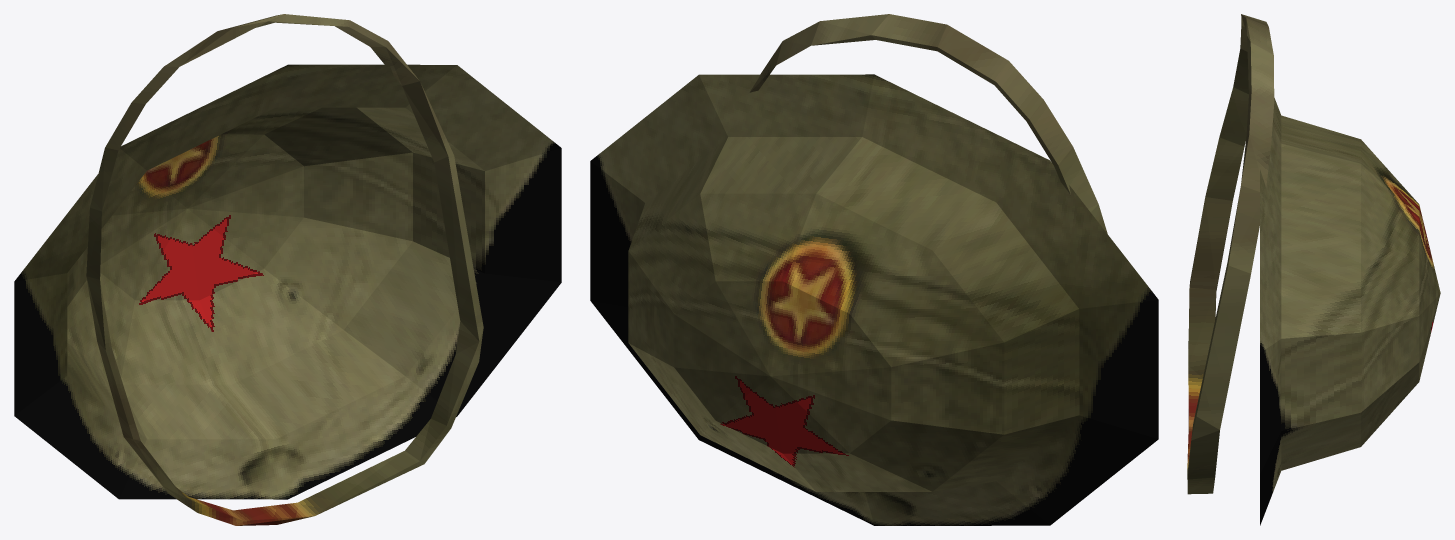
File: pith_star.glb
The picture shows the model from 3 angles, left to right: view 1: azimuth 30°, elevation 25°; view 2: azimuth 150°, elevation 25°; view 3: azimuth 270°, elevation 25°; orthographic projection. The views are drawn at different scales.
Parts seen in each view (by area): view 1: pith_star, pith_star_band; view 2: pith_star, pith_star_band; view 3: pith_star, pith_star_band.
Part boxes in pixels (box(x1,y1,x2,y2)): pith_star: box(14, 64, 561, 499); pith_star_band: box(86, 14, 483, 525); pith_star: box(590, 74, 1158, 525); pith_star_band: box(749, 14, 1107, 233); pith_star: box(1260, 98, 1440, 525); pith_star_band: box(1187, 14, 1274, 494).
Bounding box in the file's own units: 0.3095 × 0.266 × 0.1377.
Materials: 2 (2 with a texture image).
